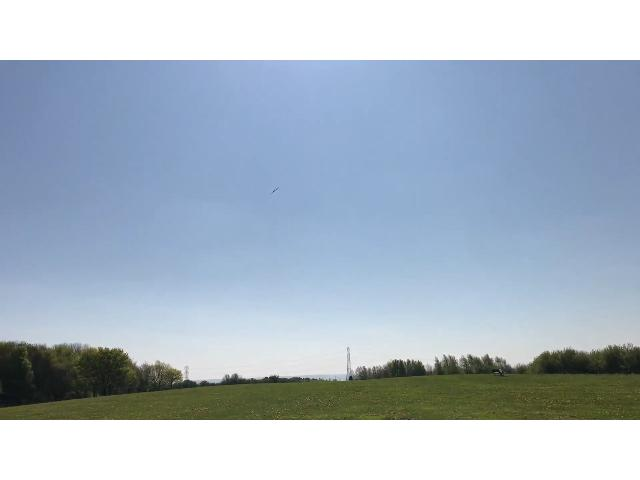Anti-Drone: (260, 177, 298, 207)
